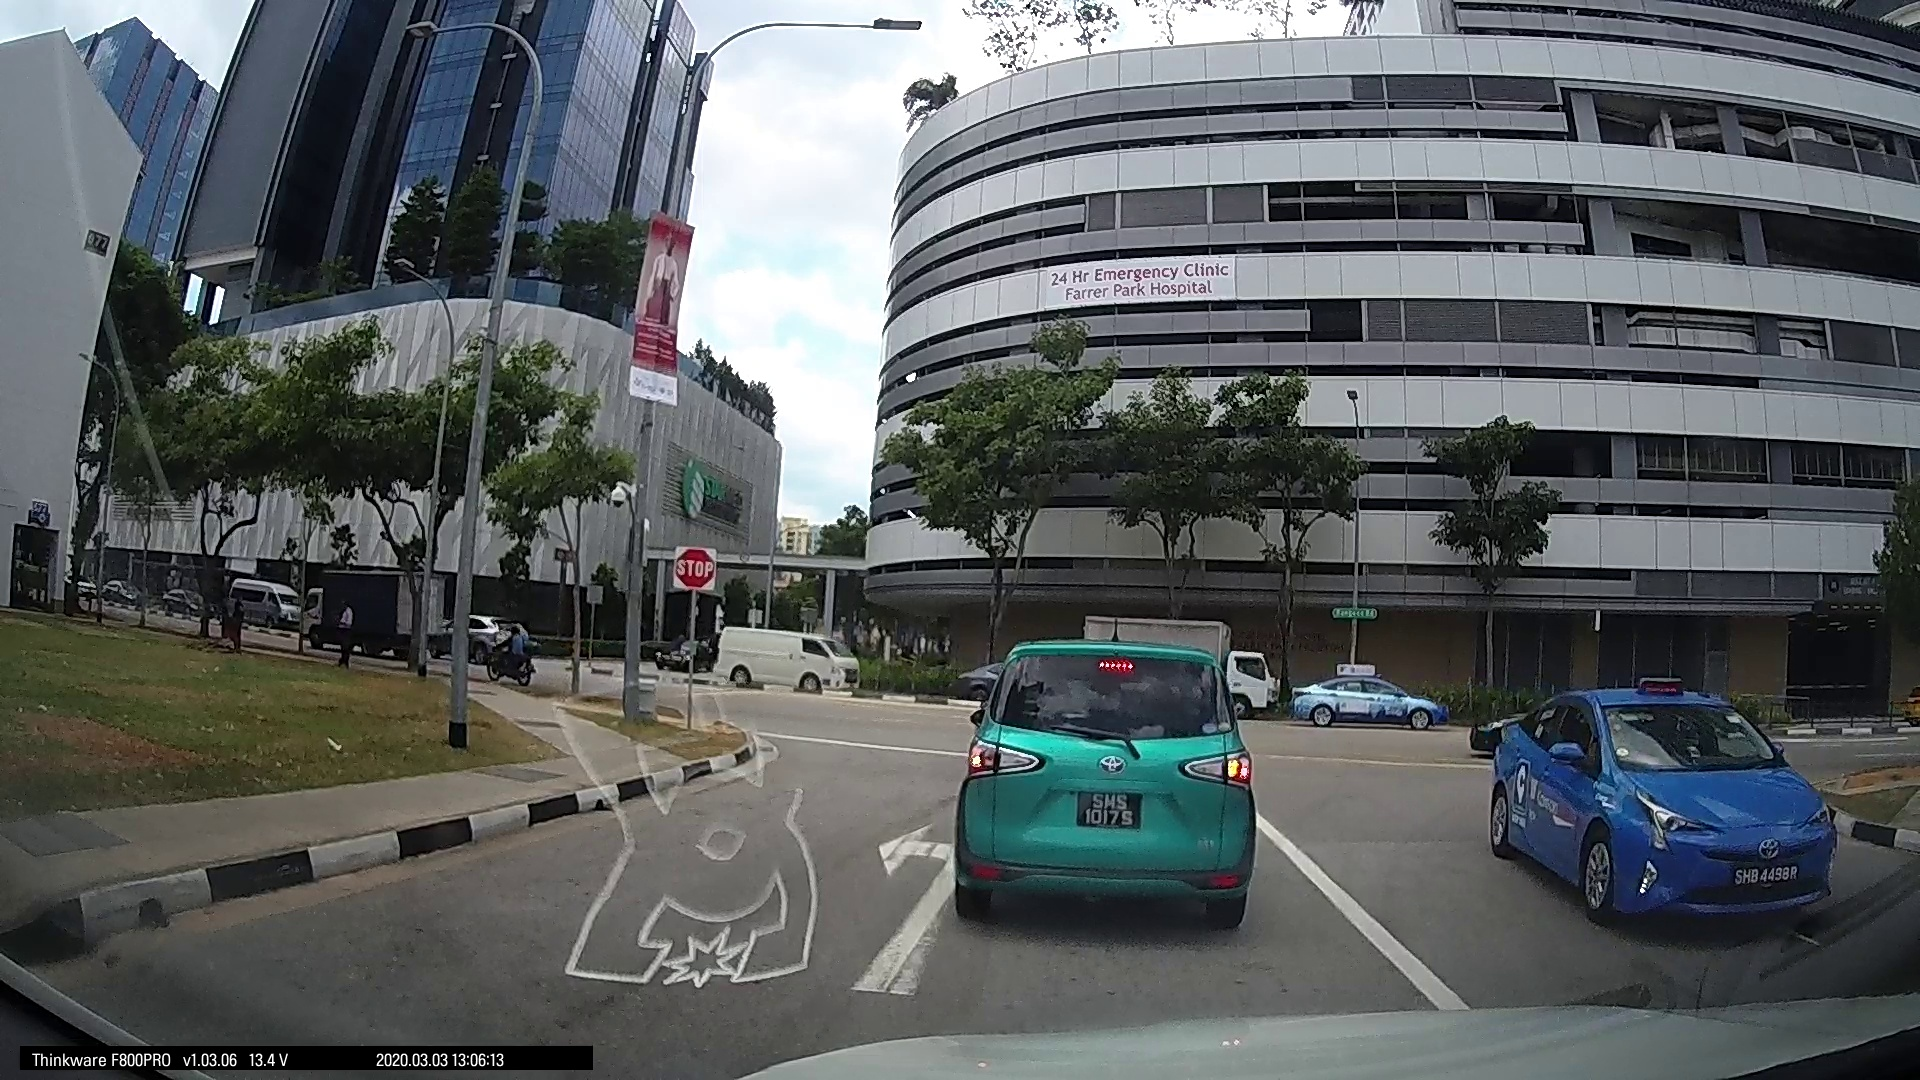Light Vehicle: (945, 617, 1261, 926), (1478, 680, 1845, 934), (698, 618, 853, 694), (1286, 665, 1437, 728)
Motorcycle: (468, 607, 543, 688)
